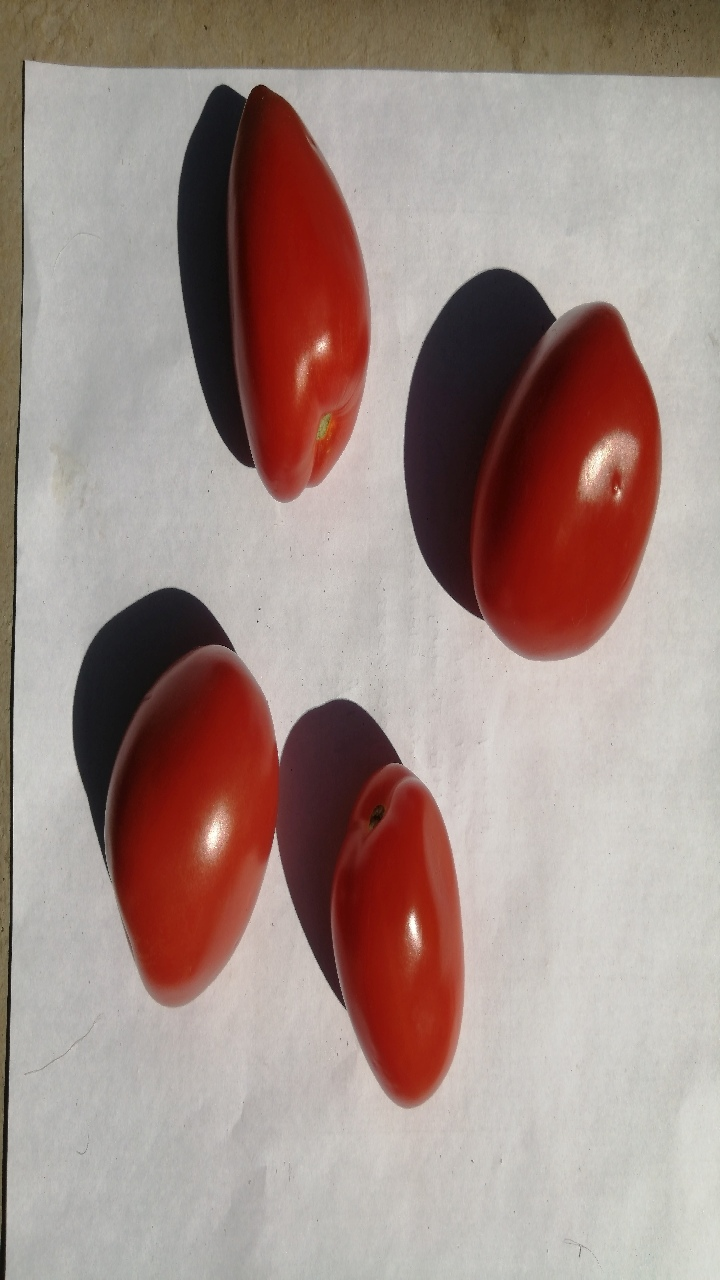tomateRojo: (431, 257, 678, 685), (192, 66, 398, 520), (78, 628, 292, 1028), (309, 743, 497, 1120)
